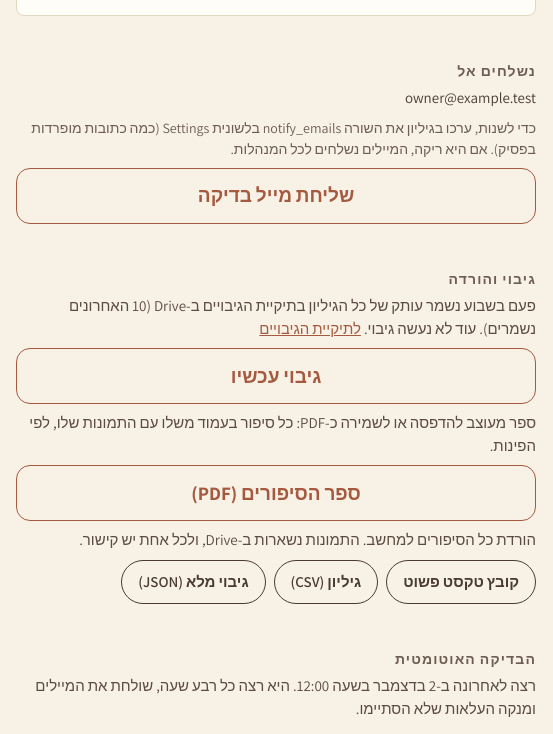
Test: admin pages › backs up now and shows when
(page scrolled)
expect the text "עוד לא נעשה גיבוי" is shown: met, box [364,319,476,338]
Click the button "גיבוי עכשיו": (276, 376) [16,348,536,404]
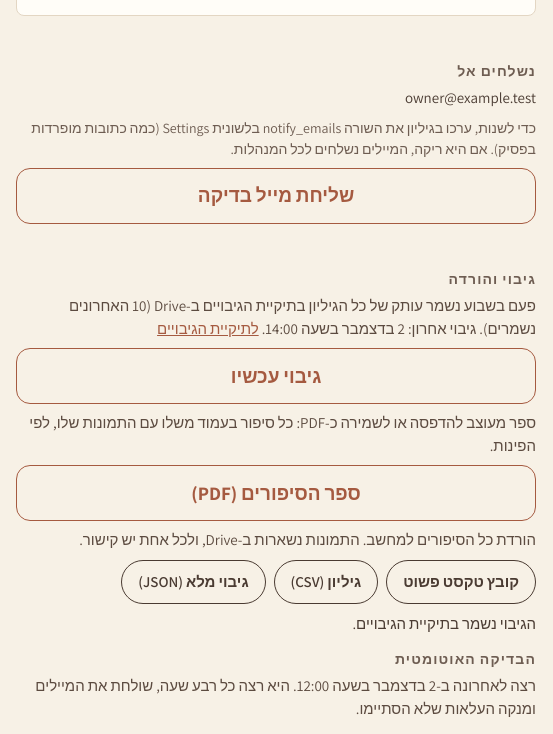
expect the text "הגיבוי נשמר בתיקיית הגיבויים." is shown: met, box [352,612,536,635]
expect the text "גיבוי אחרון: 2 בדצמבר" is shown: met, box [262,319,476,338]
